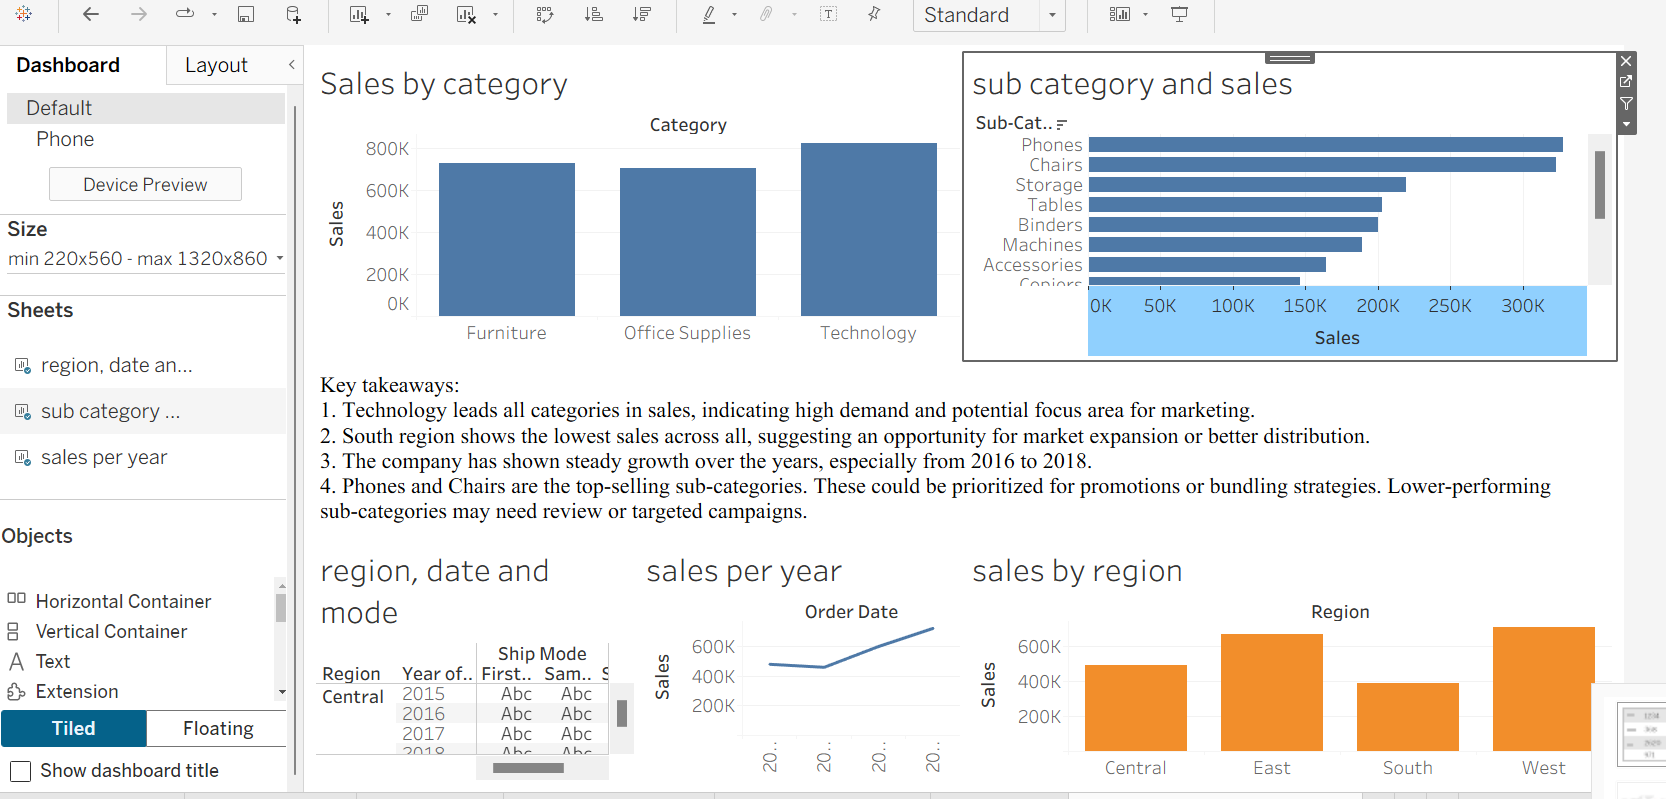

The dashboard page shown, as its layout file describes it:
{"tool":"tableau","page":{"name":"sales performance dashboard","canvas":[1000,1000],"units":"permille","ordinal":0},"visuals":[{"type":"worksheet","title":"Sales by category","mark":"Automatic","rows":["Sales"],"cols":["Category"],"box":[6.1,10.7,493.9,411]},{"type":"worksheet","title":"sub category and sales","mark":"Automatic","rows":["Sub-Category"],"cols":["Sales"],"box":[500,10.7,493.9,411]},{"type":"text","box":[6.1,421.7,987.9,241.4]},{"type":"worksheet","title":"region, date and mode","mark":"Automatic","rows":["Region","Ship Date"],"cols":["Ship Mode"],"box":[6.1,663.1,247,326.2]},{"type":"worksheet","title":"sales per year","mark":"Automatic","rows":["Sales"],"cols":["Order Date"],"box":[253,663.1,247,326.2]},{"type":"worksheet","title":"sales by region","mark":"Automatic","rows":["Sales"],"cols":["Region"],"box":[500,663.1,493.9,326.2]}]}

Visuals, with their boxes on the dashboard's canvas, which has no fixed pixel size, in thousandths of its width and height (x1, y1, x2, y2). These are canvas units, not pixel positions in the 1666x799 screenshot, which may show the page scaled, cropped or inside an application window:
"Sales by category" worksheet: 6/11/500/422
"sub category and sales" worksheet: 500/11/994/422
text: 6/422/994/663
"region, date and mode" worksheet: 6/663/253/989
"sales per year" worksheet: 253/663/500/989
"sales by region" worksheet: 500/663/994/989
